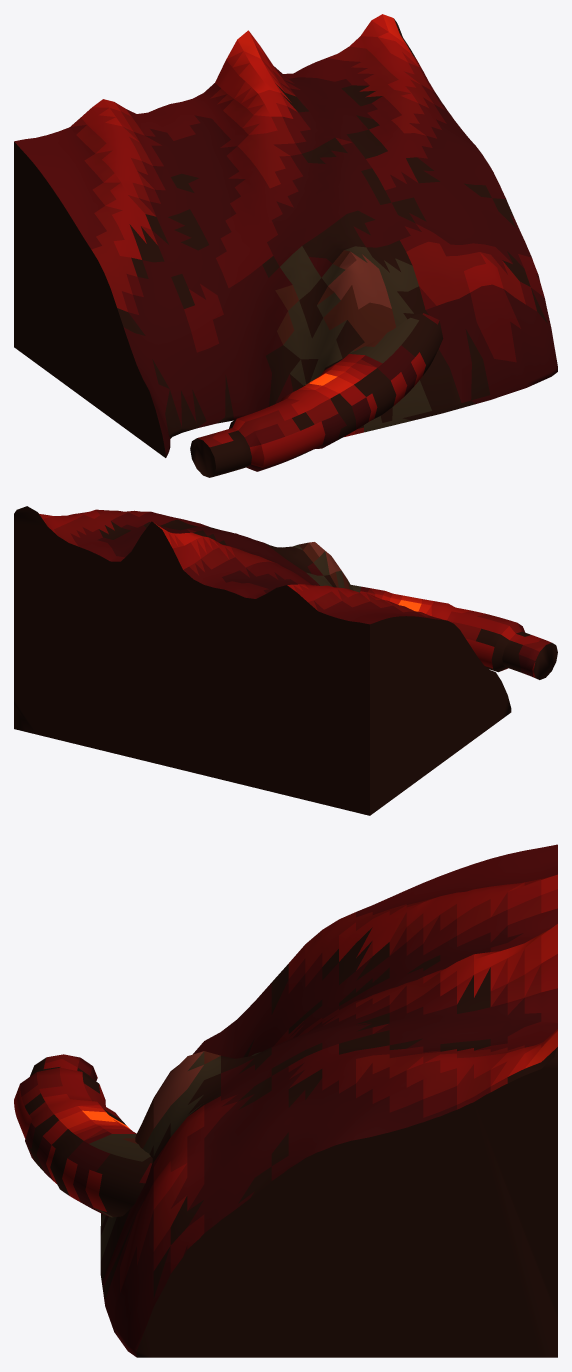
The model's file is lava_grub_l_b3.glb.
3 renders of one model, top to bottom at view 1: azimuth 30°, elevation 25°; view 2: azimuth 150°, elevation 25°; view 3: azimuth 270°, elevation 25°, orthographic. The views are drawn at different scales.
Parts seen in each view (by area): view 1: lava_grub_l_b3_grub_body, lava_grub_l_b3_grub_claw_mid; view 2: lava_grub_l_b3_grub_body, lava_grub_l_b3_grub_claw_mid; view 3: lava_grub_l_b3_grub_body, lava_grub_l_b3_grub_claw_mid.
Boxes of the visible parts, x1=… form: lava_grub_l_b3_grub_body: x1=14, y1=14, x2=557, y2=457; lava_grub_l_b3_grub_claw_mid: x1=190, y1=313, x2=443, y2=477; lava_grub_l_b3_grub_body: x1=14, y1=506, x2=511, y2=815; lava_grub_l_b3_grub_claw_mid: x1=351, y1=585, x2=557, y2=679; lava_grub_l_b3_grub_body: x1=100, y1=844, x2=557, y2=1357; lava_grub_l_b3_grub_claw_mid: x1=14, y1=1054, x2=152, y2=1217.
Size of the model in its own units: 23.98 by 15.55 by 22.59.
